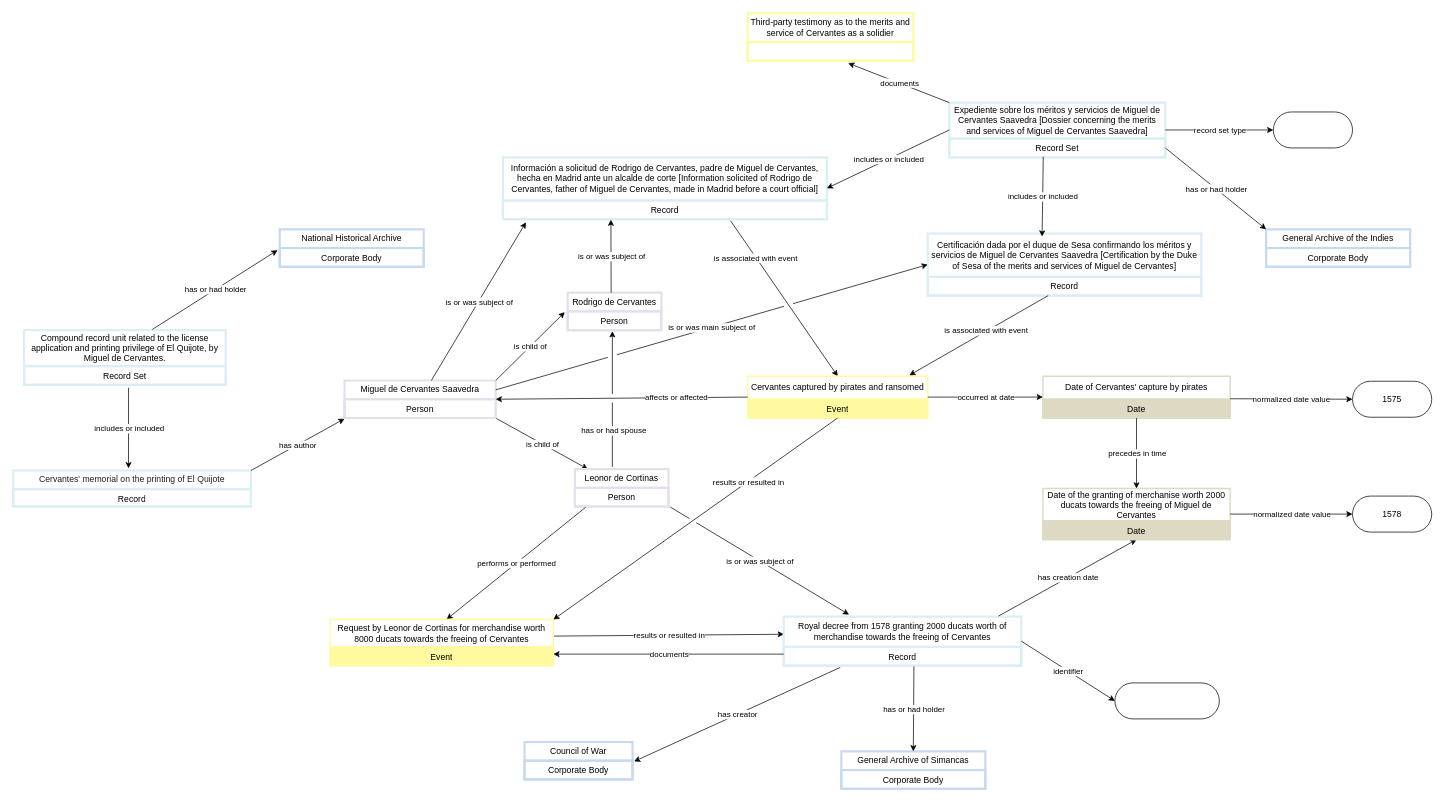
This 1444x804 diagram has some shape labels left out. The shapes that lost their labels are listed below. From the top down, each one's centre as x and y in pixels, then its label:
At point 830,51: "Activity".
At point 1313,129: "File".
At point 1166,700: "AGS,GYM,LIB,34-1,65".
